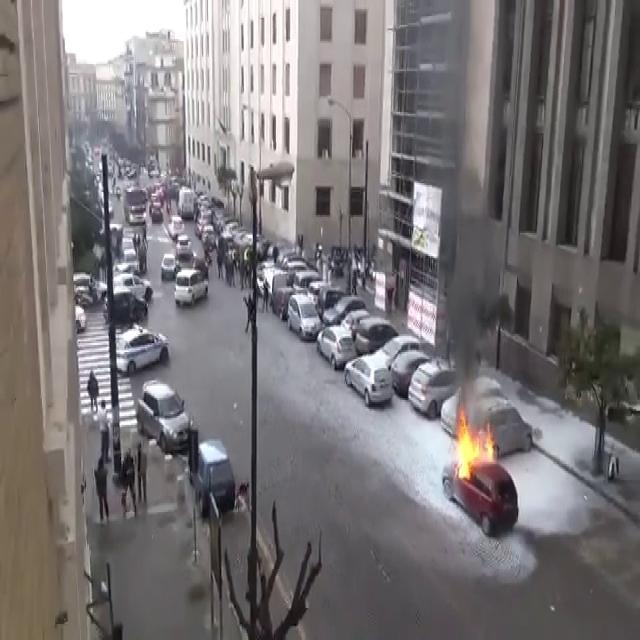Fire: (452, 400, 497, 484)
Smoke: (433, 4, 506, 390)
